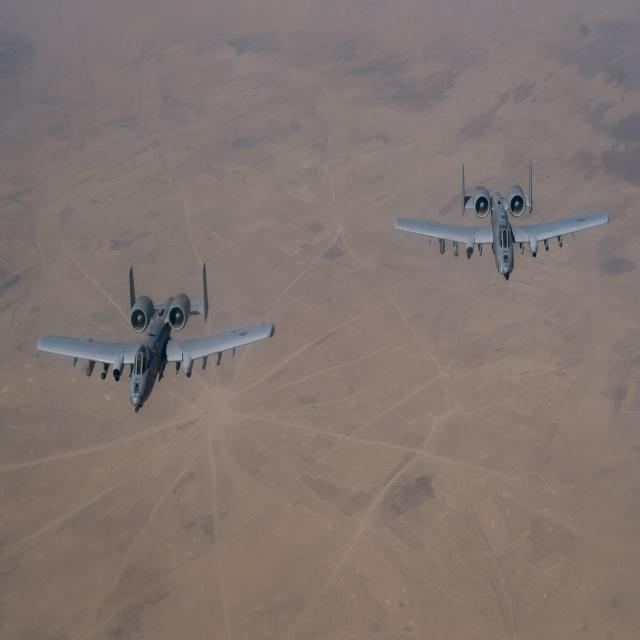MIL_Plane: (36, 262, 276, 412), (392, 160, 610, 280)
